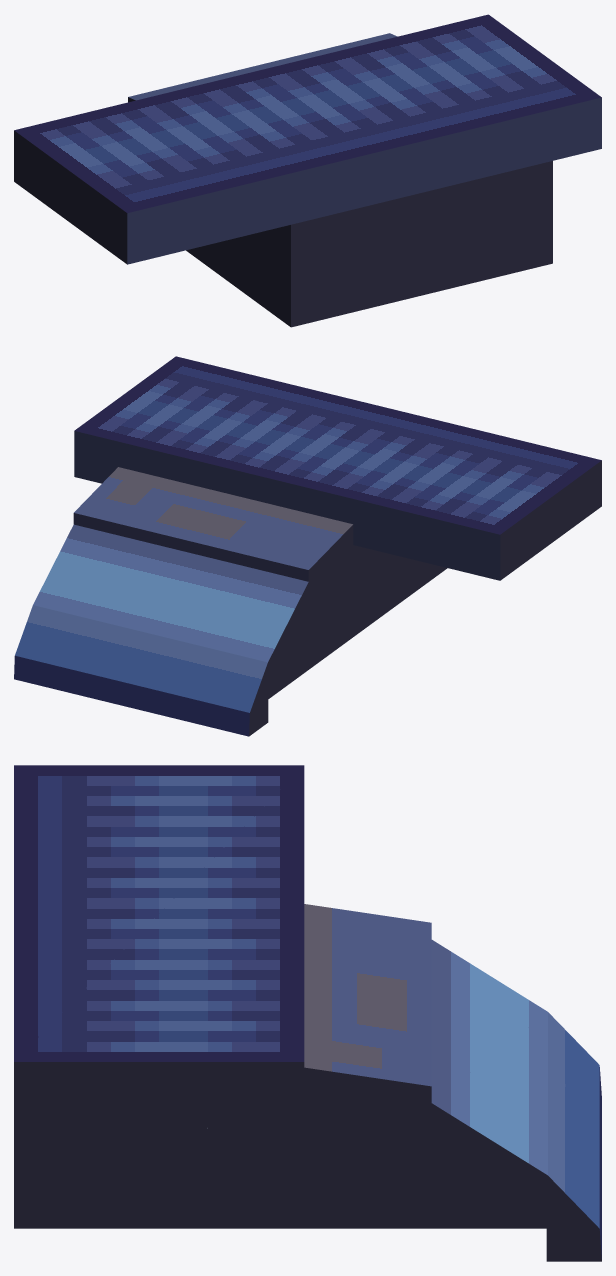
File: df21_dynamic_radiator.obj
3 renders of one model, top to bottom at view 1: azimuth 30°, elevation 25°; view 2: azimuth 150°, elevation 25°; view 3: azimuth 270°, elevation 25°, orthographic. The views are drawn at different scales.
Visible parts, largest first — view 1: cuboid_selection_selection_selection_selection_selection_selecti; view 2: cuboid_selection_selection_selection_selection_selection_selecti; view 3: cuboid_selection_selection_selection_selection_selection_selecti.
Boxes of the visible parts, left/top/right/bottom form: cuboid_selection_selection_selection_selection_selection_selecti: left=14, top=14, right=601, bottom=327; cuboid_selection_selection_selection_selection_selection_selecti: left=14, top=356, right=601, bottom=736; cuboid_selection_selection_selection_selection_selection_selecti: left=14, top=765, right=601, bottom=1261.
Bounding box in the file's own units: 1.81 × 0.6562 × 1.52.
